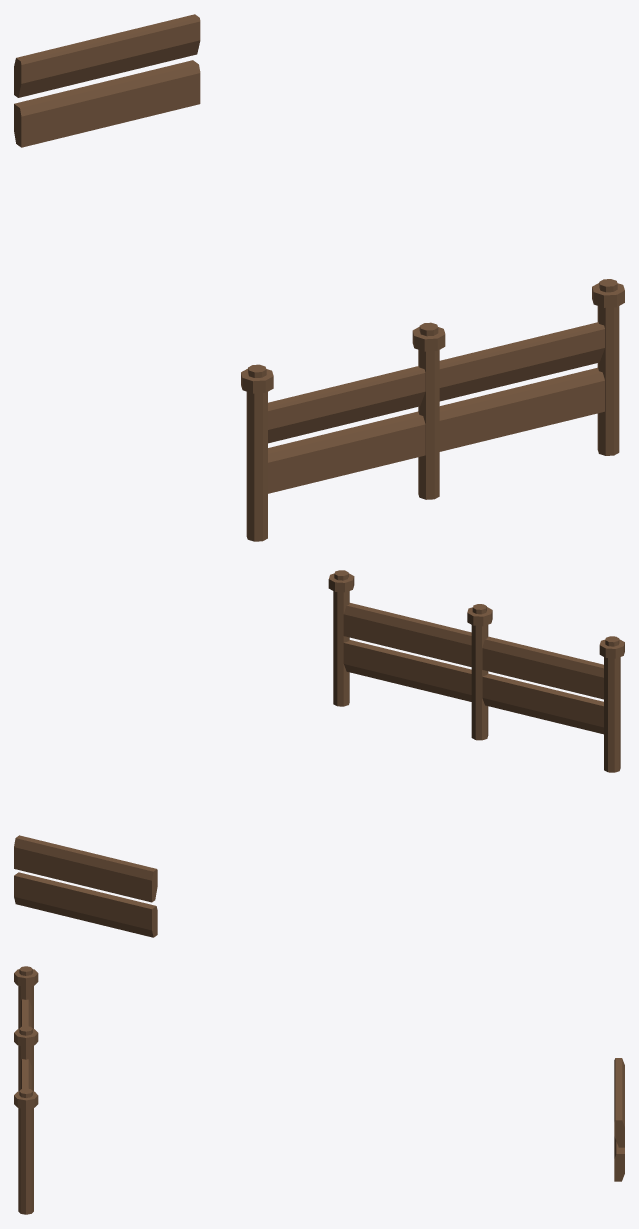
The model's file is Desert_Village_Fence_1.fbx.
3 views of the same model, one above another, from view 1: azimuth 30°, elevation 25°; view 2: azimuth 150°, elevation 25°; view 3: azimuth 270°, elevation 25° (orthographic). The views are drawn at different scales.
Parts seen in each view (by area): view 1: Fence_1, Fence_1_2, Fence_1_3; view 2: Fence_1, Fence_1_2, Fence_1_3; view 3: Fence_1_2, Fence_1, Fence_1_3.
Part boxes in pixels (x1=…): Fence_1: x1=241, y1=322, x2=445, y2=541; Fence_1_2: x1=439, y1=279, x2=624, y2=455; Fence_1_3: x1=14, y1=14, x2=200, y2=147; Fence_1: x1=467, y1=604, x2=624, y2=772; Fence_1_2: x1=328, y1=570, x2=471, y2=706; Fence_1_3: x1=14, y1=835, x2=157, y2=937; Fence_1_2: x1=14, y1=1059, x2=38, y2=1214; Fence_1: x1=14, y1=966, x2=38, y2=1091; Fence_1_3: x1=614, y1=1058, x2=624, y2=1181.
Bounding box in the file's own units: 278 × 118 × 542.
